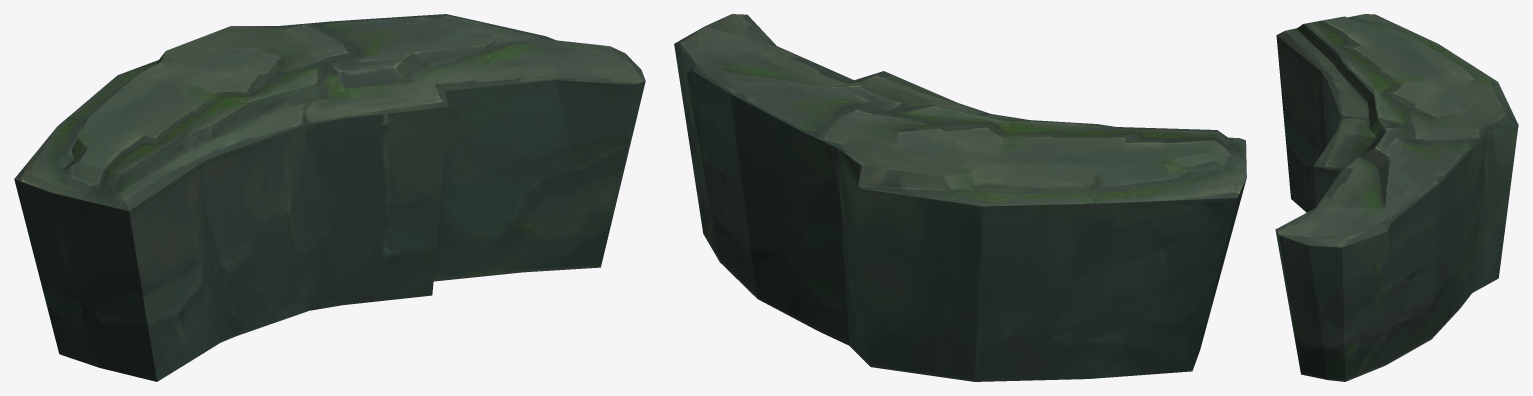
File: FB1_huxingshi01.FBX
The picture shows the model from 3 angles, left to right: view 1: azimuth 30°, elevation 25°; view 2: azimuth 150°, elevation 25°; view 3: azimuth 270°, elevation 25°; orthographic projection. The views are drawn at different scales.
Parts seen in each view (by area): view 1: FB1_huxingshi01; view 2: FB1_huxingshi01; view 3: FB1_huxingshi01.
Boxes of the visible parts, x1,y1,x2,y2 form: FB1_huxingshi01: (14, 14, 645, 381); FB1_huxingshi01: (674, 14, 1246, 381); FB1_huxingshi01: (1275, 14, 1518, 381).
Bounding box in the file's own units: 807 × 269 × 359.
Materials: 1 (1 with a texture image).
